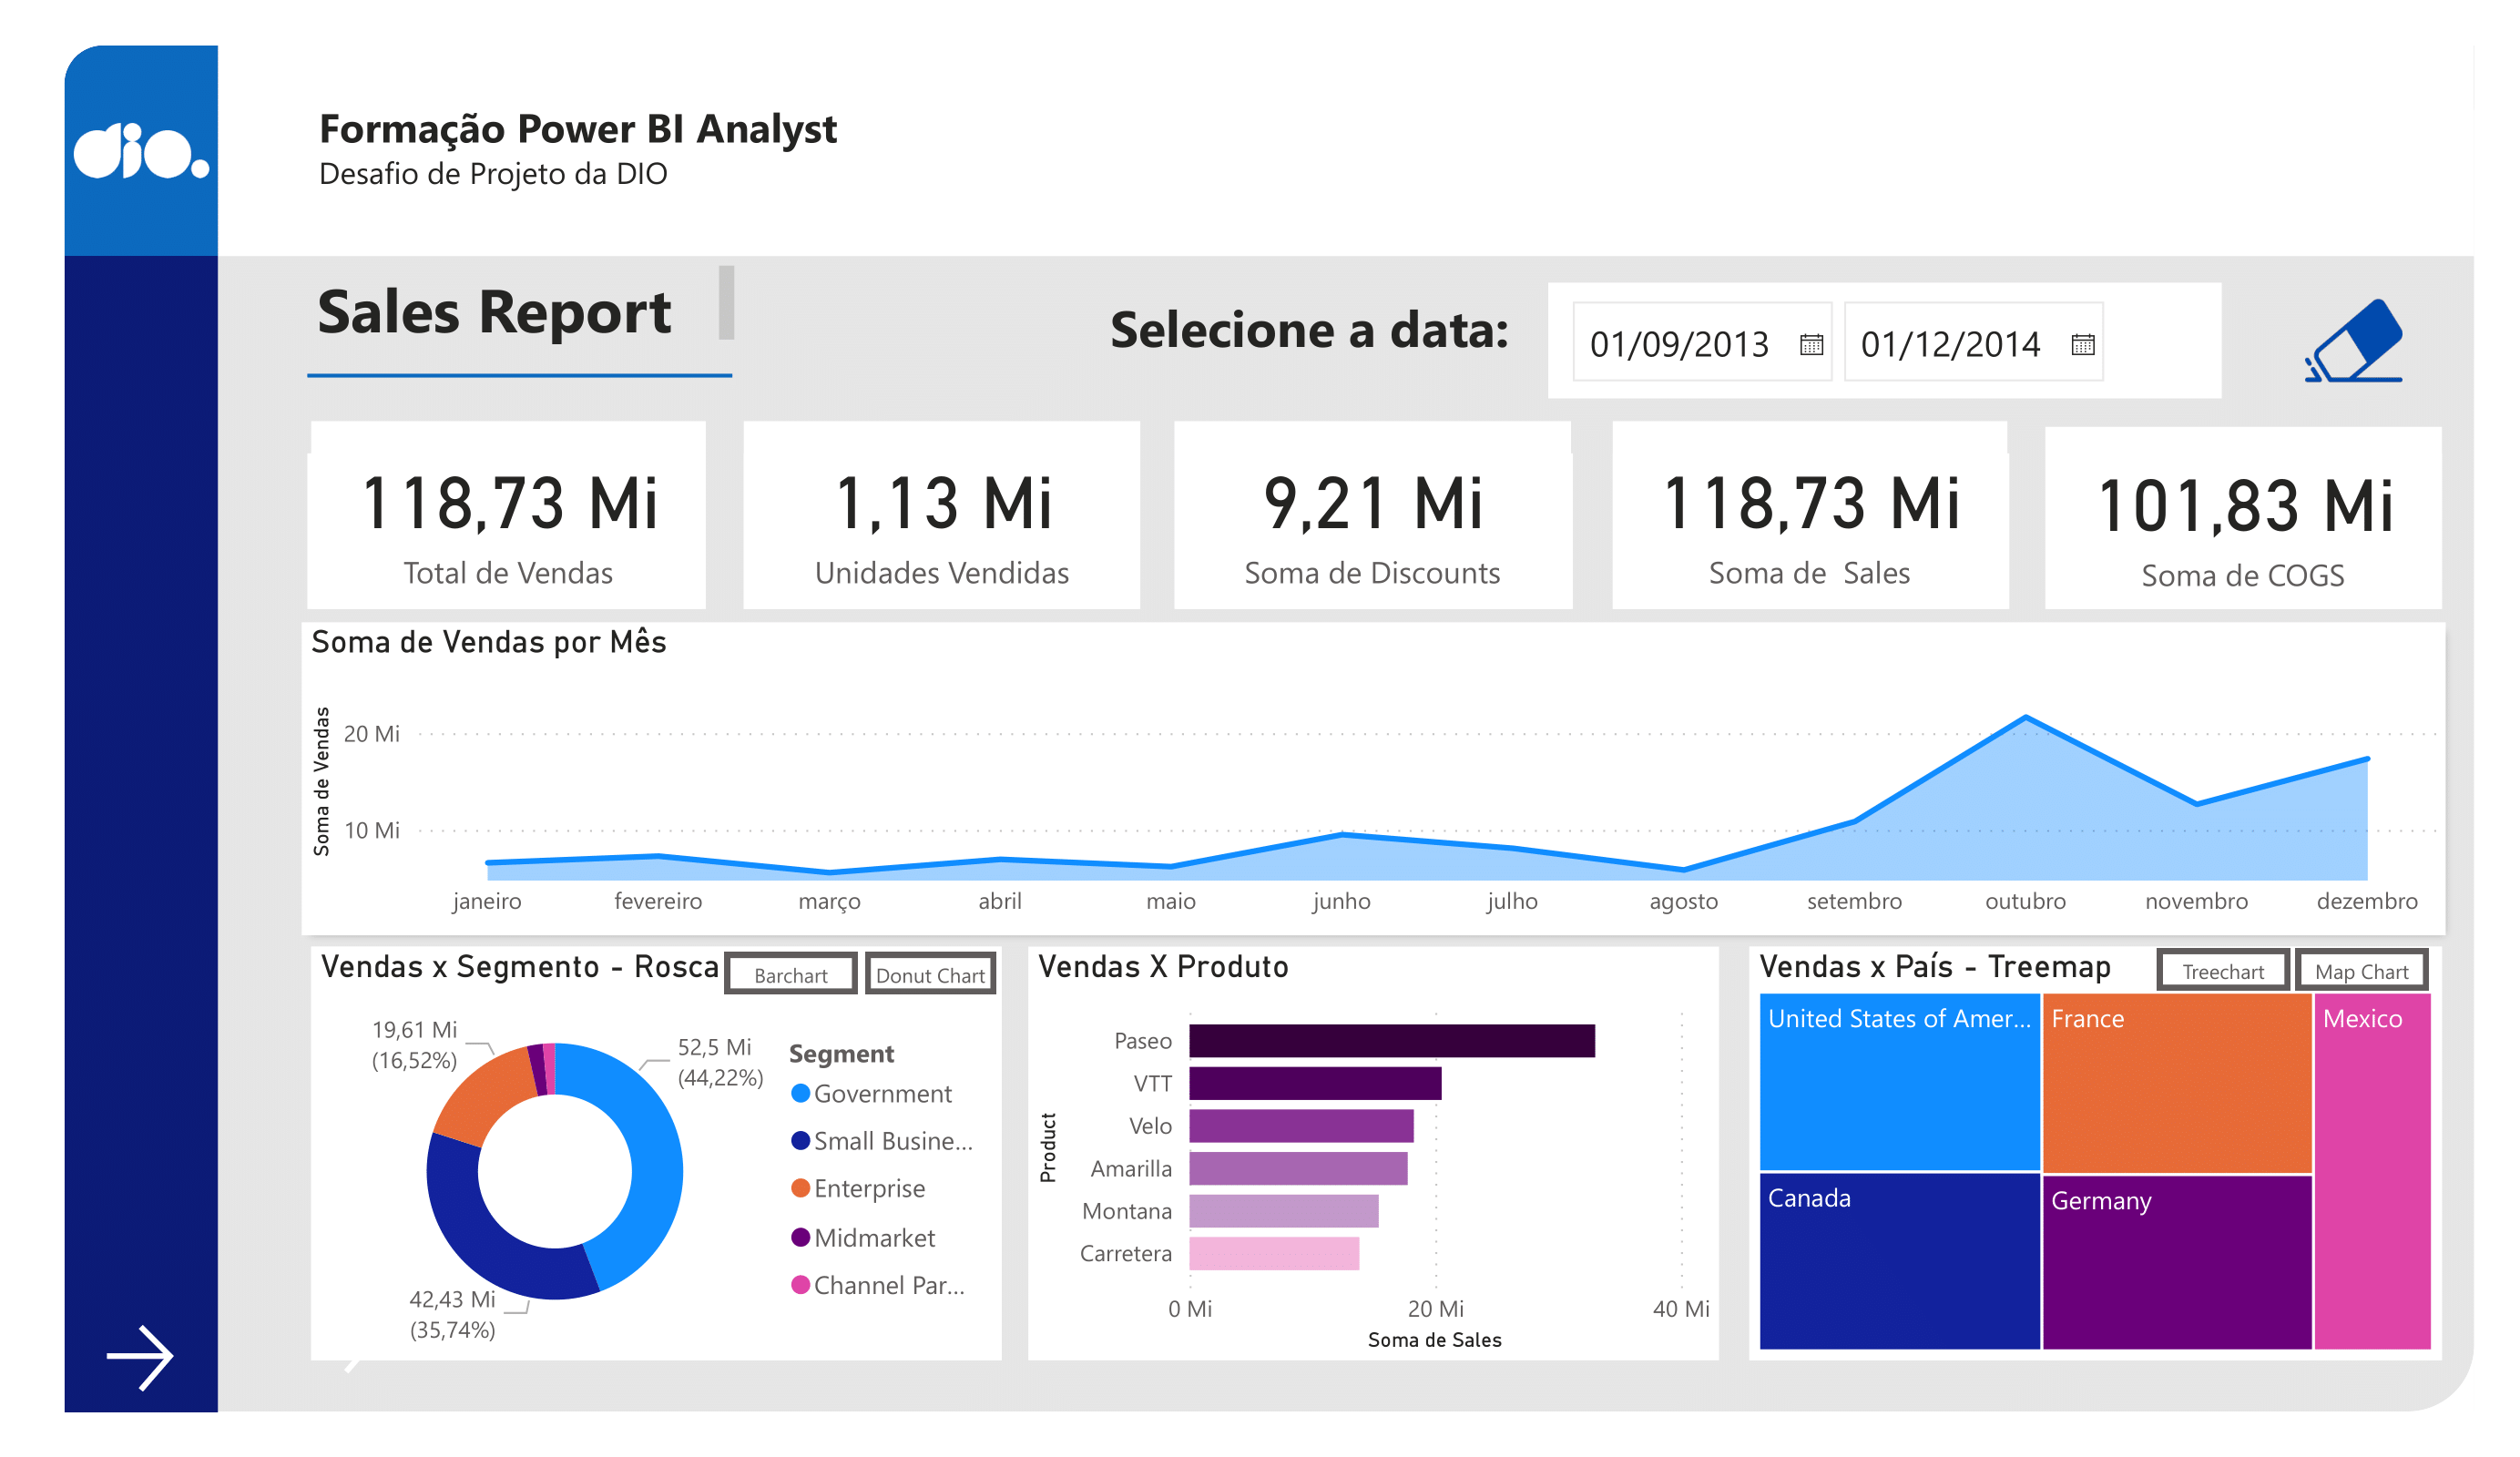

Layout of this report page (visuals, bound fields, positions):
{"tool":"powerbi","page":{"name":"Página 1","canvas":[1280,720],"ordinal":0},"visuals":[{"type":"shape","box":[10.1,0,1269.9,719.7],"z":0},{"type":"slicer","fields":{"Values":["financials.Date"]},"box":[791.9,124.6,355,61.4],"z":0,"group":"g2"},{"type":"shape","box":[138.2,162.1,223.6,23.9],"z":0,"group":"g5"},{"type":"shape","box":[138.2,215.1,208.2,81.9],"z":0,"group":"g1"},{"type":"shape","box":[127,297,1143,177],"z":0,"group":"g6"},{"type":"clusteredBarChart","title":"Vendas x Segmento - Barras","fields":{"Category":["financials.Segment"],"Y":["Sum(financials. Sales)"]},"box":[140,475,363.6,218.3],"z":0,"group":"g4"},{"type":"map","title":"Vendas X País - Mapa","fields":{"Category":["financials.Country"],"Size":["Sum(financials. Sales)"]},"box":[898.3,475,365,218.3],"z":0,"group":"g3"},{"type":"shape","box":[10.1,0,80.6,721.4],"z":1000},{"type":"textbox","box":[138.2,110.9,230.4,51.2],"z":1000,"group":"g5"},{"type":"textbox","box":[556.4,124.6,235.5,61.4],"z":1000,"group":"g2"},{"type":"shape","box":[368.2,215.1,208.2,81.9],"z":1000,"group":"g1"},{"type":"stackedAreaChart","fields":{"Category":["financials.Date.Variation.Hierarquia de datas.Mês"],"Y":["Sum(financials. Sales)"]},"box":[135.3,303.7,1130,165],"z":1000,"group":"g6"},{"type":"donutChart","title":"Vendas x Segmento - Rosca","fields":{"Y":["Sum(financials. Sales)"],"Category":["financials.Segment"]},"box":[140,475,363.6,218.3],"z":1000,"group":"g4"},{"type":"treemap","title":"Vendas x País - Treemap","fields":{"Group":["financials.Country"],"Values":["Sum(financials. Sales)"]},"box":[898.3,475,365,218.3],"z":1000,"group":"g3"},{"type":"shape","box":[10.1,0,80.6,110.9],"z":2000},{"type":"image","title":"Clean","box":[1170.8,124.6,92.2,61.4],"z":2000,"group":"g2"},{"type":"shape","box":[596.5,215.1,208.2,81.9],"z":2000,"group":"g1"},{"type":"actionButton","title":"Botão - Treemap","box":[1113,475.5,70,22.5],"z":2000,"group":"g3"},{"type":"actionButton","title":"Botão - Donut","box":[358.3,477.8,69.7,22.5],"z":2000,"group":"g4"},{"type":"actionButton","box":[138.2,665.9,40.6,38.9],"z":2000,"group":"g6"},{"type":"image","title":"Logo","box":[10,0,80.6,111.1],"z":3000},{"type":"actionButton","box":[1170.8,124.6,92.2,61.4],"z":3000,"group":"g2"},{"type":"shape","box":[826.5,215.1,208.2,81.9],"z":3000,"group":"g1"},{"type":"actionButton","title":"Botão - Map","box":[1186.7,475.5,70,22.5],"z":3000,"group":"g3"},{"type":"actionButton","title":"Botão - Bar","box":[431.7,477.8,69.7,22.5],"z":3000,"group":"g4"},{"type":"shape","box":[90.6,0,1189.4,111.1],"z":4000},{"type":"shape","box":[1054.9,215.1,208.2,81.9],"z":4000,"group":"g1"},{"type":"card","fields":{"Values":["Sum(financials.COGS)"]},"box":[1054.7,201.4,208.2,95.6],"z":4031,"group":"g1"},{"type":"card","fields":{"Values":["Sum(financials. Sales)"]},"box":[826,198,208.2,99],"z":4078,"group":"g1"},{"type":"textbox","box":[139.2,23.5,968,65.4],"z":5000},{"type":"card","fields":{"Values":["Sum(financials.Discounts)"]},"box":[595.6,198,208.2,99],"z":5000,"group":"g1"},{"type":"card","fields":{"Values":["Sum(financials.Units Sold)"]},"box":[368.6,198,208.2,99],"z":5250,"group":"g1"},{"type":"card","fields":{"Values":["Sum(financials. Sales)"]},"box":[139.9,198,208.2,99],"z":5500,"group":"g1"},{"type":"group","id":"g1","title":"Cartões","box":[138.2,198,1124.8,99],"z":6000},{"type":"clusteredBarChart","title":"Vendas X Produto","fields":{"Category":["financials.Product"],"Y":["Sum(financials. Sales)"]},"box":[518.3,475,363.3,218.3],"z":15000},{"type":"group","id":"g2","title":"Filtro por Data","box":[556.4,124.6,706.6,61.4],"z":16000},{"type":"group","id":"g3","title":"Vendas x País","box":[898.3,475,365,218.3],"z":17000},{"type":"group","id":"g4","title":"Vendas x Segmento","box":[140,475,363.3,218.3],"z":18000},{"type":"group","id":"g5","title":"Titulo","box":[138.2,110.9,230.4,75.1],"z":19000},{"type":"group","id":"g6","title":"Vendas por Mês","box":[127,297,1143,407.9],"z":20000},{"type":"actionButton","title":"Proxima Pagina","box":[26.4,669.1,46.4,46.4],"z":21000}]}

Visuals, with their boxes on the page's 1280x720 design canvas (x1, y1, x2, y2). These are canvas units, not pixel positions in the 2520x1457 screenshot, which may show the page scaled, cropped or inside an application window:
shape: 10,0,1280,720
slicer - financials.Date: 792,125,1147,186
shape: 138,162,362,186
shape: 138,215,346,297
shape: 127,297,1270,474
"Vendas x Segmento - Barras" clusteredBarChart: 140,475,504,693
"Vendas X País - Mapa" map: 898,475,1263,693
shape: 10,0,91,721
textbox: 138,111,369,162
textbox: 556,125,792,186
shape: 368,215,576,297
stackedAreaChart - financials.Date.Variation.Hierarquia de datas.Mês x Sum(financials. Sales): 135,304,1265,469
"Vendas x Segmento - Rosca" donutChart: 140,475,504,693
"Vendas x País - Treemap" treemap: 898,475,1263,693
shape: 10,0,91,111
"Clean" image: 1171,125,1263,186
shape: 596,215,805,297
"Botão - Treemap" actionButton: 1113,476,1183,498
"Botão - Donut" actionButton: 358,478,428,500
actionButton: 138,666,179,705
"Logo" image: 10,0,91,111
actionButton: 1171,125,1263,186
shape: 826,215,1035,297
"Botão - Map" actionButton: 1187,476,1257,498
"Botão - Bar" actionButton: 432,478,501,500
shape: 91,0,1280,111
shape: 1055,215,1263,297
card - Sum(financials.COGS): 1055,201,1263,297
card - Sum(financials. Sales): 826,198,1034,297
textbox: 139,24,1107,89
card - Sum(financials.Discounts): 596,198,804,297
card - Sum(financials.Units Sold): 369,198,577,297
card - Sum(financials. Sales): 140,198,348,297
"Cartões" group: 138,198,1263,297
"Vendas X Produto" clusteredBarChart: 518,475,882,693
"Filtro por Data" group: 556,125,1263,186
"Vendas x País" group: 898,475,1263,693
"Vendas x Segmento" group: 140,475,503,693
"Titulo" group: 138,111,369,186
"Vendas por Mês" group: 127,297,1270,705
"Proxima Pagina" actionButton: 26,669,73,716
